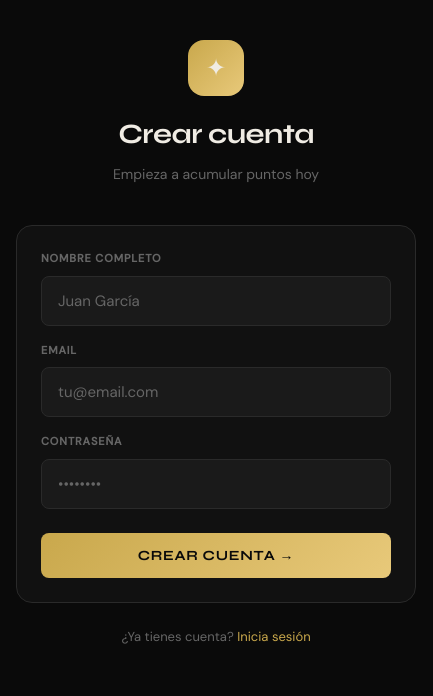
it: Autenticación › Registro de usuario nuevo › muestra un error si el email ya está registrado
Step 1. Type "Cypress Test User" into the field with test id "register-name" → coordinates (216, 301), box [41,276,391,326]
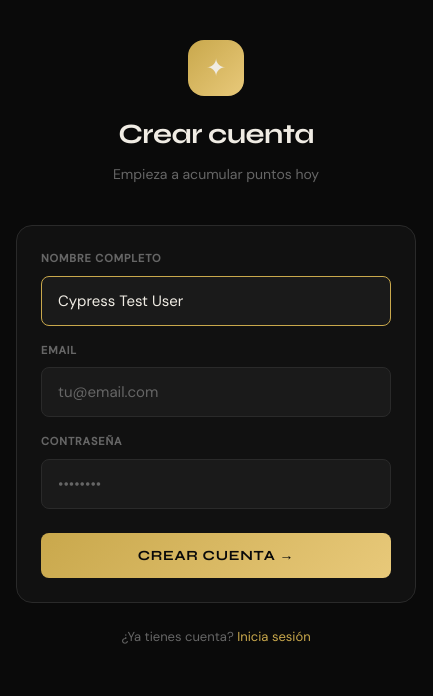
Step 2. Type "cypress.test@example.com" into the field with test id "register-email" → coordinates (216, 393), box [41,368,391,418]
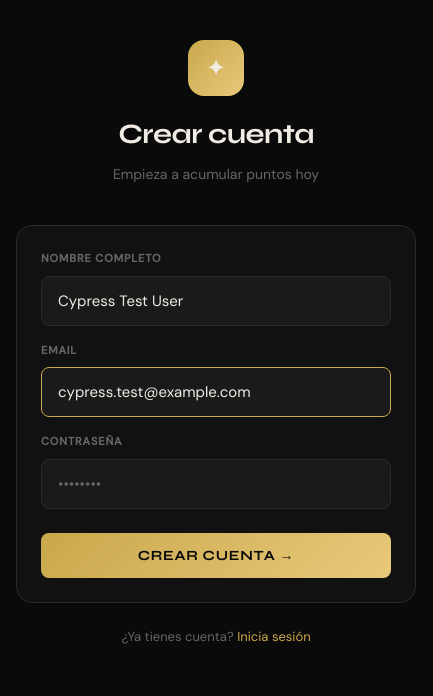
Step 3. Type "TestPass123!" into the password field with test id "register-password" → coordinates (216, 484), box [41,459,391,509]
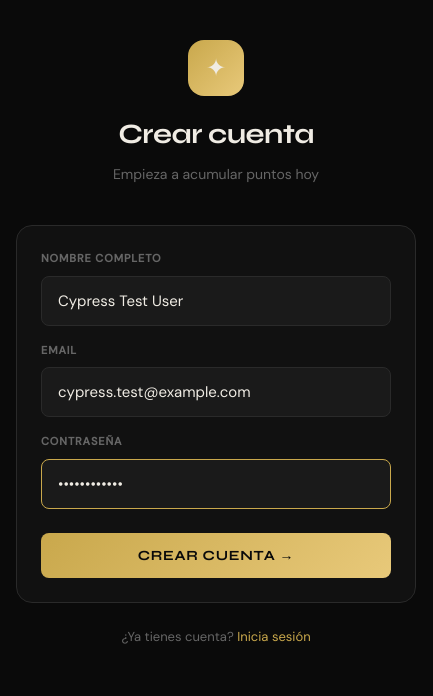
Step 4. Click the button with test id "register-submit" → coordinates (216, 556), box [41,533,391,578]
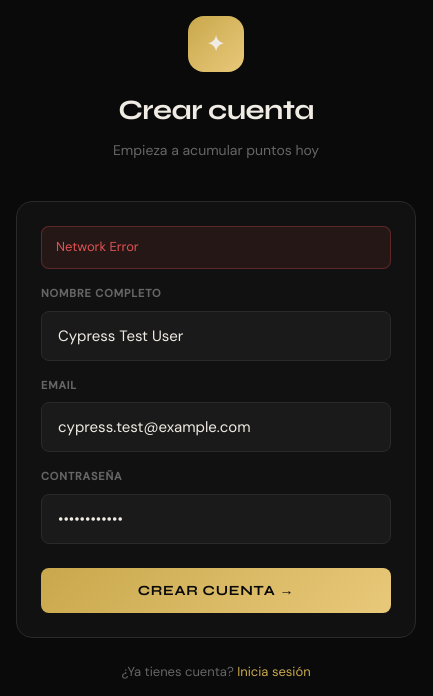
Result: the text with test id "register-error" is shown at [41,226,391,269]
